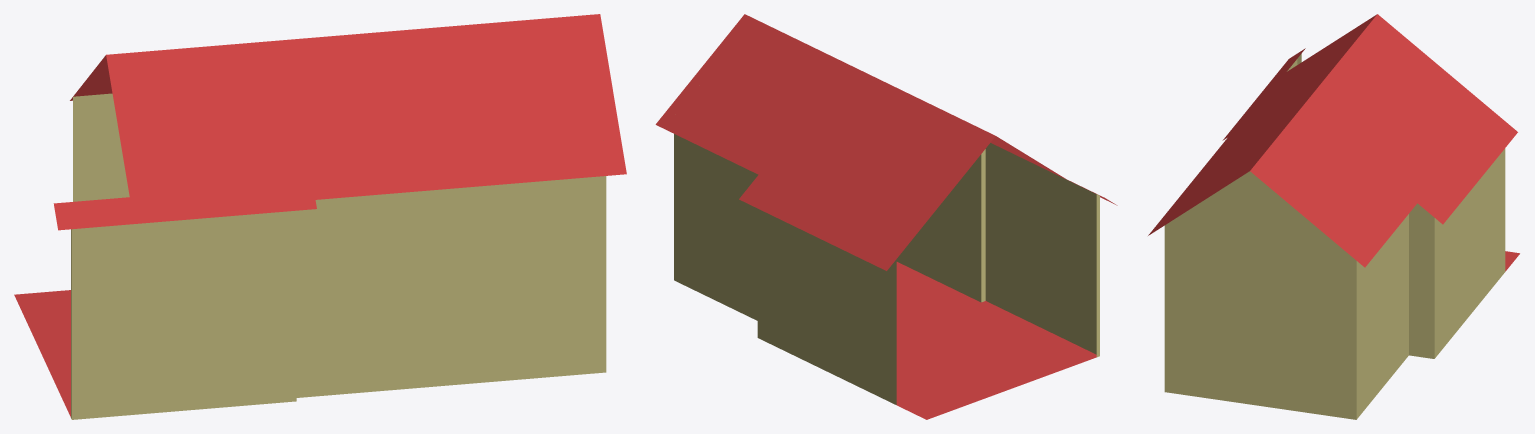
3 renders of one model, left to right at view 1: azimuth 30°, elevation 25°; view 2: azimuth 150°, elevation 25°; view 3: azimuth 270°, elevation 25°, orthographic. The views are drawn at different scales.
Bounding box in the file's own units: 27.78 × 20.5 × 14.52.
